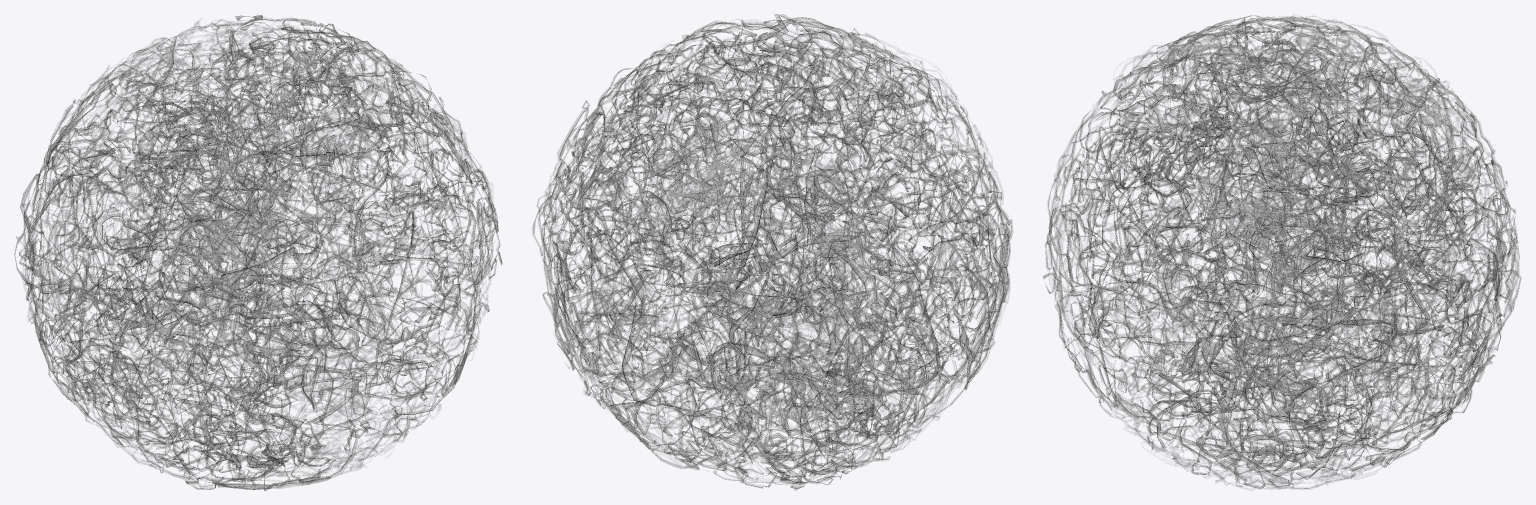
File: mesh_index.mobile.glb
The picture shows the model from 3 angles, left to right: view 1: azimuth 30°, elevation 25°; view 2: azimuth 150°, elevation 25°; view 3: azimuth 270°, elevation 25°; orthographic projection.
Visible parts, largest first — view 1: NewOfflineLineRendererPrefab_1_Clone__1; view 2: NewOfflineLineRendererPrefab_1_Clone__1; view 3: NewOfflineLineRendererPrefab_1_Clone__1.
Boxes of the visible parts, <box> form: NewOfflineLineRendererPrefab_1_Clone__1: <box>14,15,502,490</box>; NewOfflineLineRendererPrefab_1_Clone__1: <box>533,14,1012,490</box>; NewOfflineLineRendererPrefab_1_Clone__1: <box>1043,14,1521,489</box>.
Size of the model in its own units: 1.75 by 1.69 by 1.71.
1 material, 1 textured.
